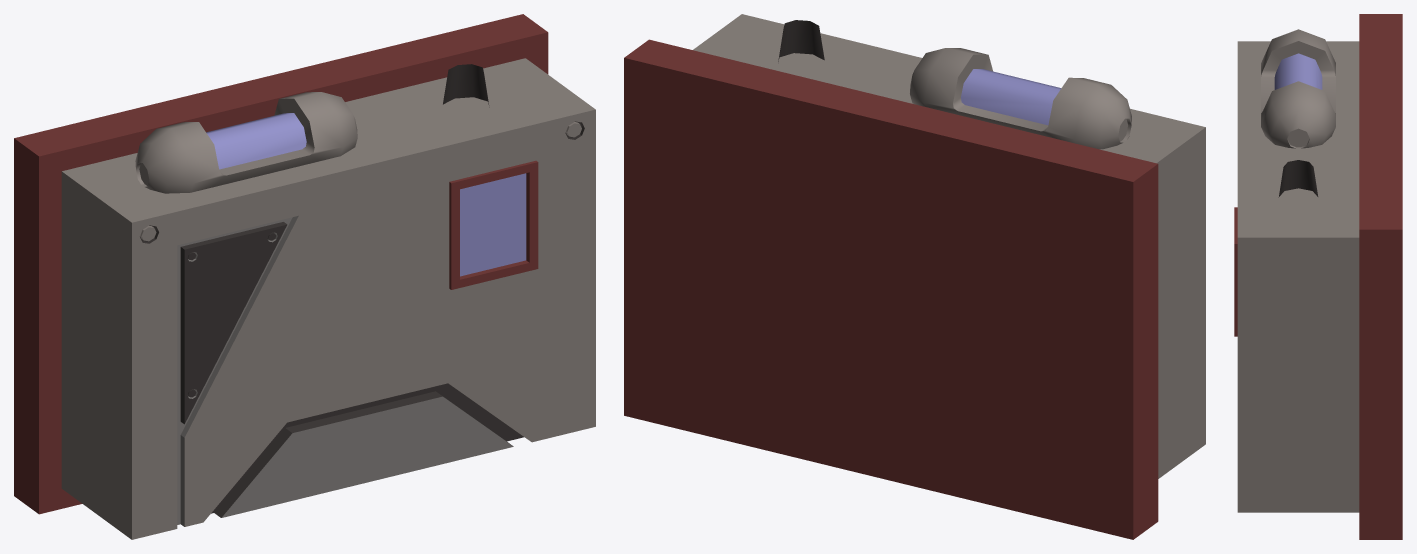
The model's file is ABox.fbx.
3 views of the same model, side by side, from view 1: azimuth 30°, elevation 25°; view 2: azimuth 150°, elevation 25°; view 3: azimuth 270°, elevation 25° (orthographic). The views are drawn at different scales.
Visible parts, largest first — view 1: ABox; view 2: ABox; view 3: ABox.
Part boxes in pixels (x1,y1,x2,y2): ABox: [14, 14, 595, 539]; ABox: [624, 14, 1205, 539]; ABox: [1234, 14, 1402, 539].
Size of the model in its own units: 84.82 by 61.73 by 28.04.
